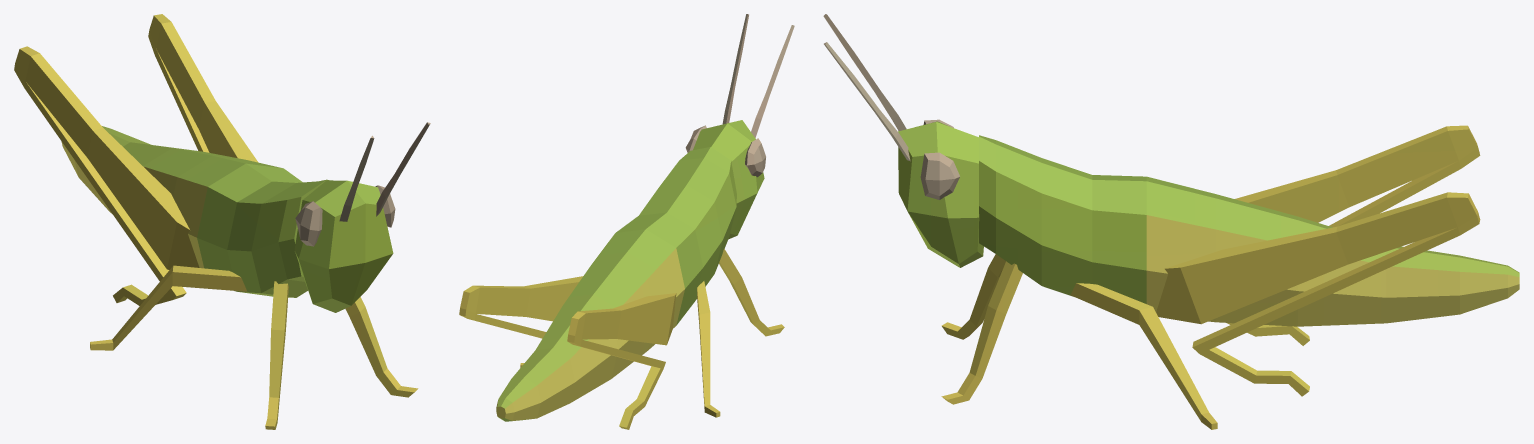
Rendered from aw6LLeYKxp7.glb.
3 renders of one model, left to right at view 1: azimuth 30°, elevation 25°; view 2: azimuth 150°, elevation 25°; view 3: azimuth 270°, elevation 25°, orthographic. The views are drawn at different scales.
Visible parts, largest first — view 1: Geo_Grasshopper; view 2: Geo_Grasshopper; view 3: Geo_Grasshopper.
Part boxes in pixels (<box>): Geo_Grasshopper: <box>14,14,430,429</box>; Geo_Grasshopper: <box>459,14,794,429</box>; Geo_Grasshopper: <box>823,14,1519,429</box>.
Size of the model in its own units: 0.7883 by 1 by 1.85.
Materials: 1 (1 with a texture image).
